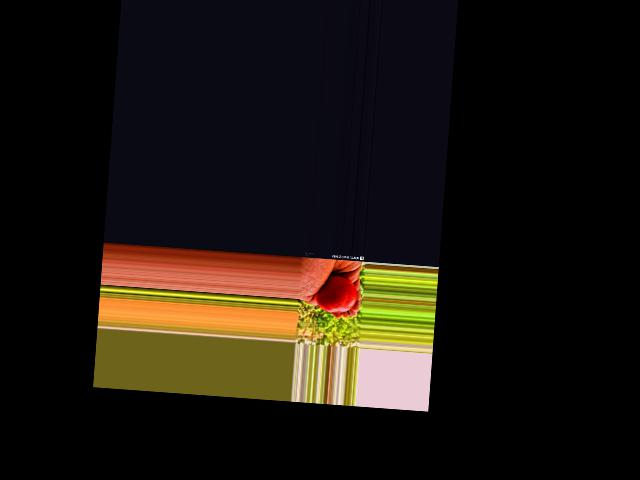tomato: (314, 274, 357, 313)
